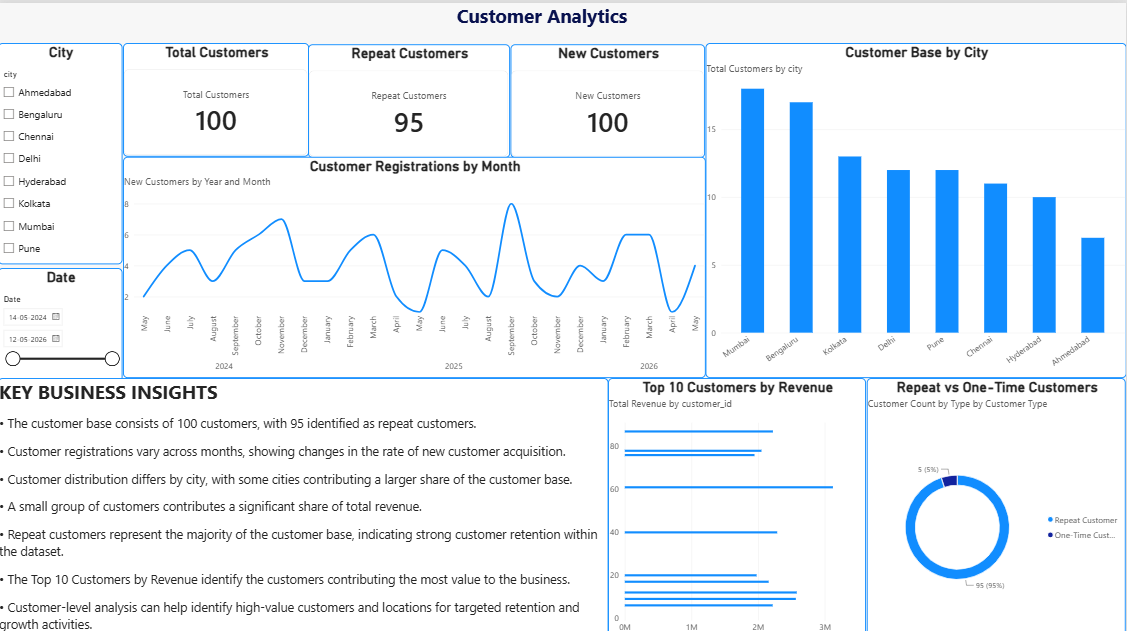

Layout of this report page (visuals, bound fields, positions):
{"tool":"powerbi","page":{"name":"Customer Analysis","canvas":[1920,1080],"ordinal":6},"visuals":[{"type":"textbox","box":[781,0,363.6,69.6],"z":0},{"type":"cardVisual","title":"Total Customers","fields":{"Data":["customers.Total Customers"]},"box":[211.7,68.8,316.7,193.6],"z":1000},{"type":"cardVisual","title":"New Customers","fields":{"Data":["customers.New Customers"]},"box":[872.3,70.6,331.2,193.6],"z":2000},{"type":"cardVisual","title":"Repeat Customers","fields":{"Data":["customers.Repeat Customers"]},"box":[528.4,70.6,343.8,193.6],"z":3000},{"type":"lineChart","title":"Customer Registrations by Month","fields":{"Category":["DateTable.Year","DateTable.Month"],"Y":["customers.New Customers"]},"box":[211.7,262.4,991.7,376.4],"z":4000},{"type":"clusteredColumnChart","title":"Customer Base by City","fields":{"Category":["customers.city"],"Y":["customers.Total Customers"]},"box":[1203.4,68.8,716.6,570],"z":5000},{"type":"donutChart","title":"Repeat vs One-Time Customers","fields":{"Category":["Customer Type.Customer Type"],"Y":["Customer Type.Customer Count by Type"]},"box":[1478.4,639.2,441.2,441.2],"z":6000},{"type":"slicer","title":"Date","fields":{"Values":["DateTable.Date"]},"box":[0,450.6,211.7,193.6],"z":7000},{"type":"slicer","title":"City","fields":{"Values":["customers.city"]},"box":[0,68.8,211.7,376.4],"z":8000},{"type":"barChart","title":"Top 10 Customers by Revenue","fields":{"Category":["customers.customer_id"],"Y":["order_items.Total Revenue"]},"box":[1039.2,639.2,439.2,441.2],"z":9000},{"type":"textbox","box":[0,639.2,1039.2,441.2],"z":10000}]}

Visuals, with their boxes in screenshot pixels (x1, y1, x2, y2), scaled from the page's 1920x1080 canvas onto the 1127x631 screenshot:
textbox: 458:0:672:41
"Total Customers" cardVisual: 124:40:310:153
"New Customers" cardVisual: 512:41:706:154
"Repeat Customers" cardVisual: 310:41:512:154
"Customer Registrations by Month" lineChart: 124:153:706:373
"Customer Base by City" clusteredColumnChart: 706:40:1126:373
"Repeat vs One-Time Customers" donutChart: 868:373:1126:630
"Date" slicer: 0:263:124:376
"City" slicer: 0:40:124:260
"Top 10 Customers by Revenue" barChart: 610:373:868:630
textbox: 0:373:610:630
